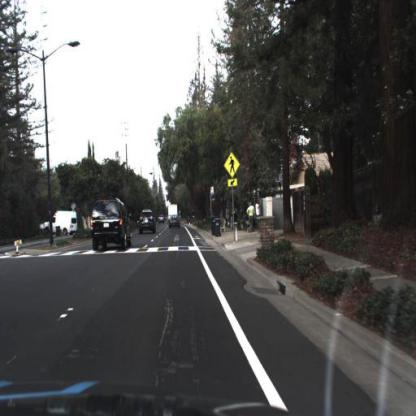car: (90, 197, 131, 253), (38, 208, 81, 237), (137, 206, 156, 236), (170, 213, 182, 231), (158, 213, 167, 226)
pedestrian: (247, 201, 256, 232), (256, 199, 264, 233), (255, 200, 263, 233), (247, 203, 255, 230), (224, 204, 232, 228)
truck: (166, 202, 179, 228)
